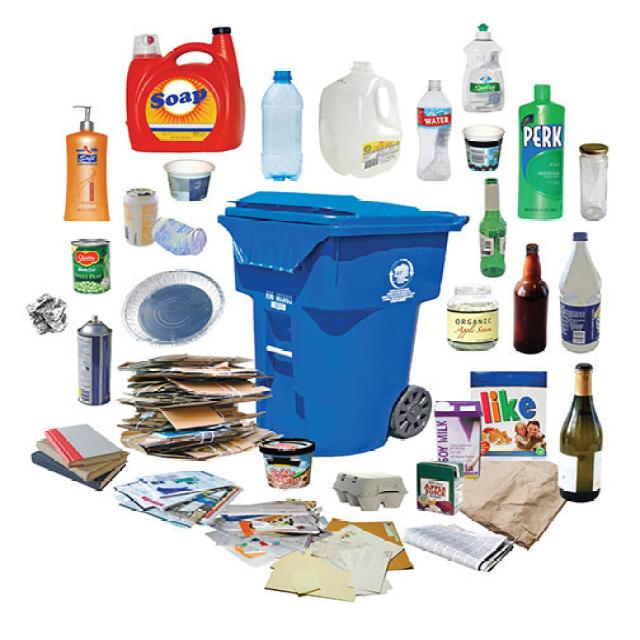cardboard: (230, 503, 397, 597), (130, 357, 256, 451), (448, 397, 486, 463)
glass: (571, 364, 607, 496), (516, 244, 558, 354), (476, 180, 516, 276)
metal: (126, 285, 212, 341), (61, 241, 119, 293), (84, 321, 115, 411), (130, 186, 158, 247)
paper: (34, 428, 117, 494), (410, 528, 509, 576), (137, 476, 222, 526), (38, 304, 79, 344)
plastic: (114, 30, 250, 152), (334, 66, 397, 174), (520, 90, 572, 220), (61, 109, 113, 225), (342, 466, 462, 516), (263, 69, 308, 178), (568, 230, 603, 347), (419, 79, 456, 180), (467, 30, 508, 110), (580, 142, 616, 224), (268, 442, 316, 490), (164, 162, 213, 198), (167, 216, 204, 258)
